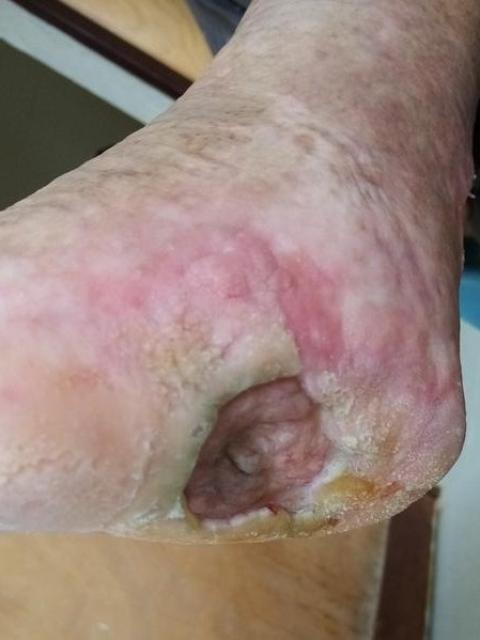wound: (175, 370, 348, 532)
